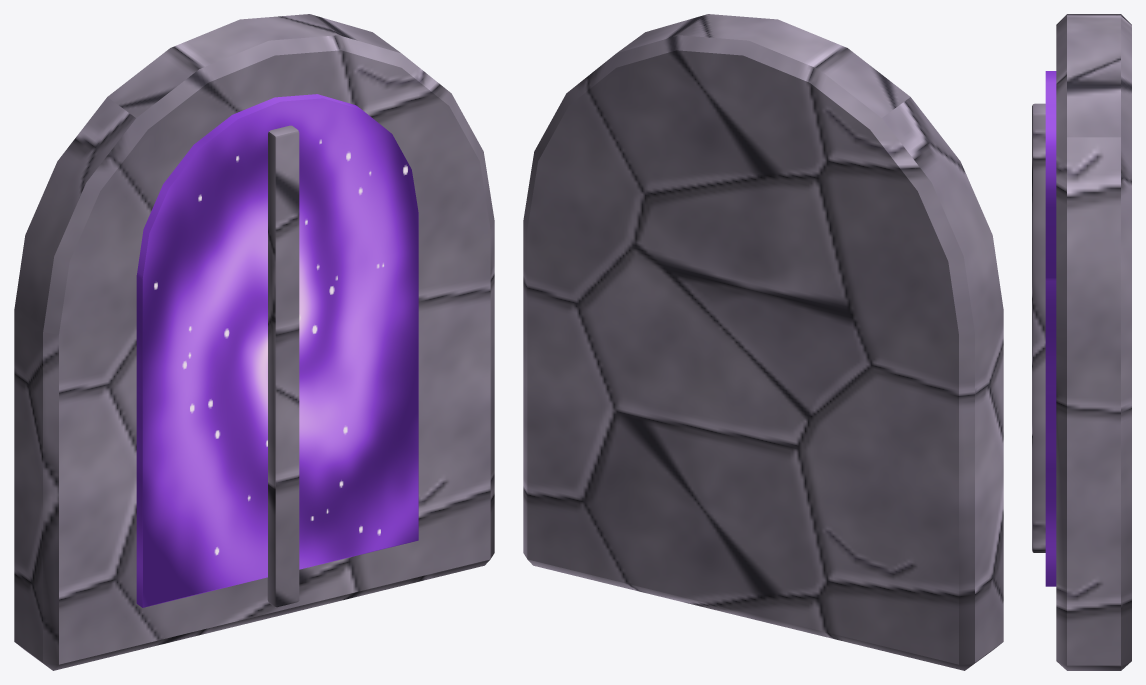
File: mausoleum_window.gltf
The picture shows the model from 3 angles, left to right: view 1: azimuth 30°, elevation 25°; view 2: azimuth 150°, elevation 25°; view 3: azimuth 270°, elevation 25°; orthographic projection. The views are drawn at different scales.
Parts seen in each view (by area): view 1: mausoleum_window_mesh; view 2: mausoleum_window_mesh; view 3: mausoleum_window_mesh.
Part boxes in pixels (x1,y1,x2,y2): mausoleum_window_mesh: (14,14,494,670); mausoleum_window_mesh: (523,14,1003,670); mausoleum_window_mesh: (1032,14,1131,670).
Bounding box in the file's own units: 0.9 × 1.1 × 0.185.
Materials: 2 (2 with a texture image).
